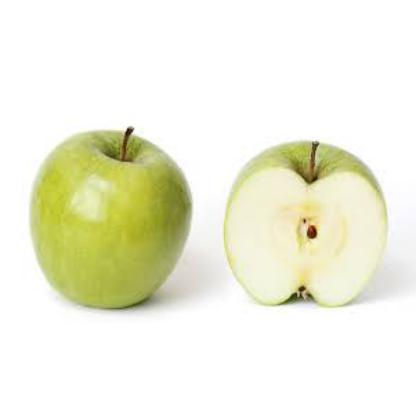apple: (38, 134, 180, 304)
damaged_apple: (221, 140, 389, 306)
